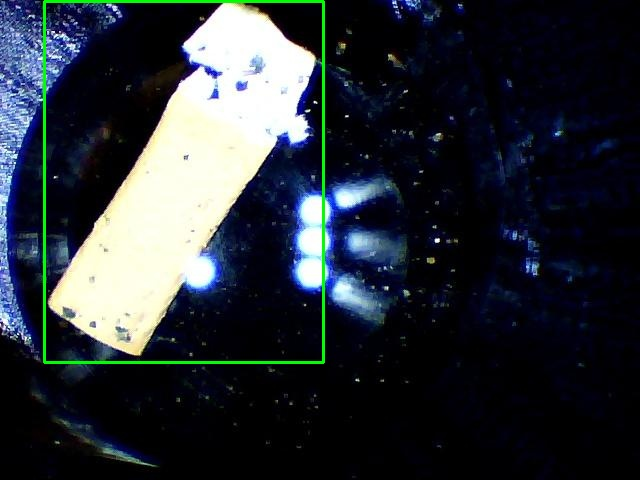megot: (44, 1, 323, 362)
